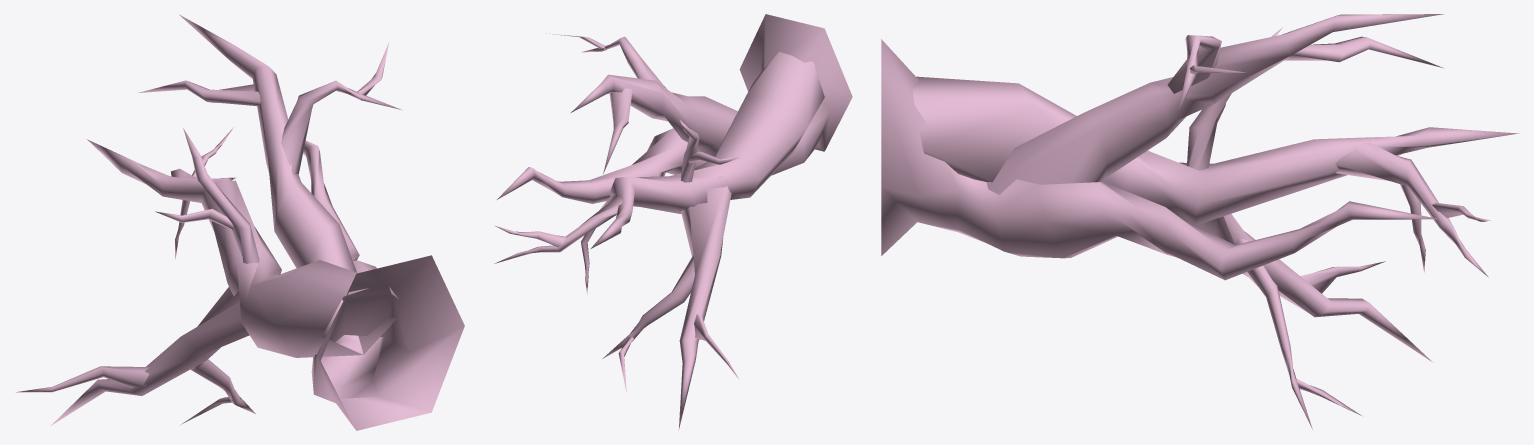
3 views of the same model, side by side, from view 1: azimuth 30°, elevation 25°; view 2: azimuth 150°, elevation 25°; view 3: azimuth 270°, elevation 25° (orthographic). The views are drawn at different scales.
Visible parts, largest first — view 1: Object05; view 2: Object05; view 3: Object05.
Part boxes in pixels (left/top/right/bottom): Object05: left=16, top=14, right=464, bottom=430; Object05: left=494, top=14, right=852, bottom=430; Object05: left=881, top=14, right=1519, bottom=429.
Bounding box in the file's own units: 35616 × 41781 × 56102.
